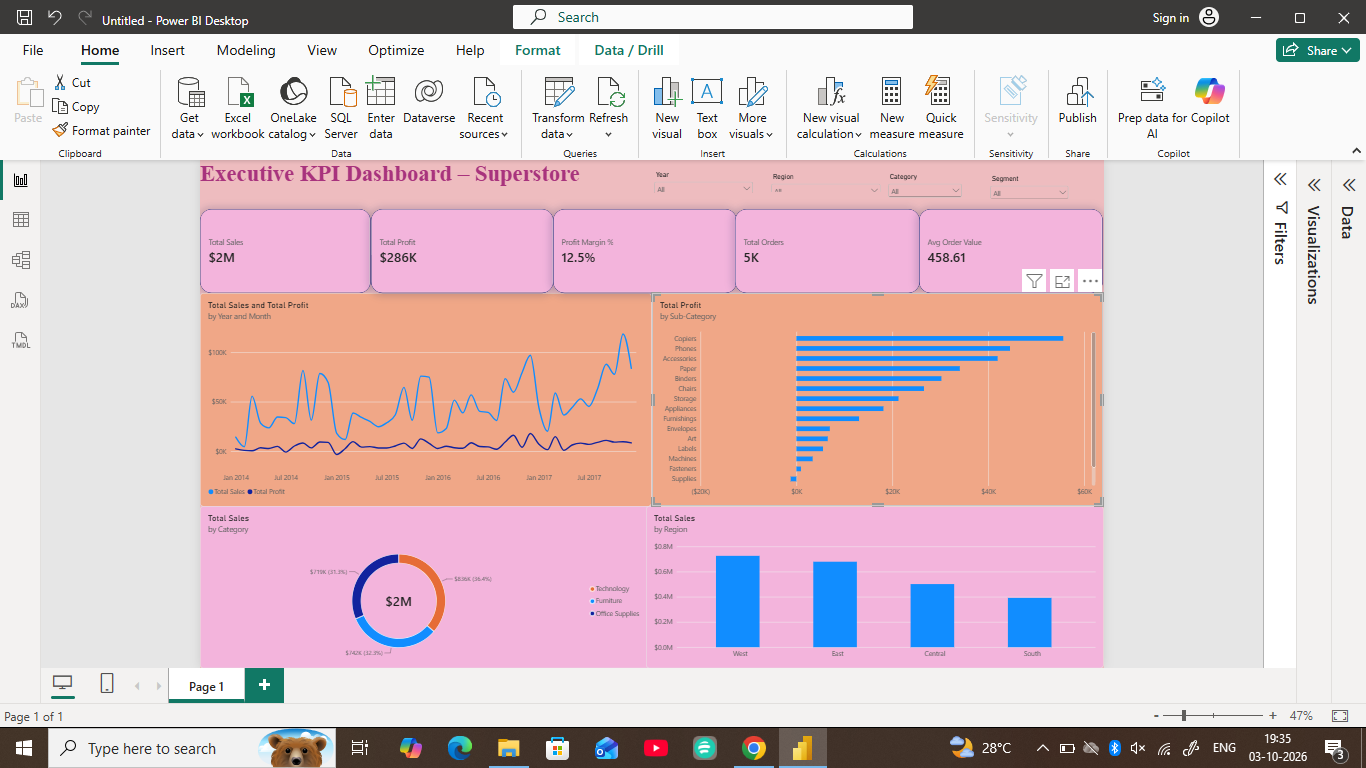

Layout of this report page (visuals, bound fields, positions):
{"tool":"powerbi","page":{"name":"Page 1","canvas":[1920,1080],"ordinal":0},"visuals":[{"type":"cardVisual","fields":{"Data":["superstore.Total Sales"]},"box":[0,103.3,362.8,178.9],"z":0},{"type":"lineChart","fields":{"Category":["superstore.Order Date.Variation.Date Hierarchy.Year","superstore.Order Date.Variation.Date Hierarchy.Month"],"Y":["superstore.Total Sales","superstore.Total Profit"]},"box":[0,282.2,960,453.5],"z":5000},{"type":"clusteredBarChart","fields":{"Category":["superstore.Sub-Category"],"Y":["superstore.Total Profit"]},"box":[960,282.2,960,453.5],"z":6000},{"type":"donutChart","fields":{"Category":["superstore.Category"],"Y":["superstore.Total Sales"]},"box":[0,735.7,960,345.2],"z":7000},{"type":"clusteredColumnChart","fields":{"Category":["superstore.Region"],"Y":["superstore.Total Sales"]},"box":[947.4,735.7,972.6,345.2],"z":8000},{"type":"slicer","fields":{"Values":["superstore.Year"]},"box":[960,22.7,219.2,45.4],"z":9000},{"type":"slicer","fields":{"Values":["superstore.Region"]},"box":[1209.4,27.7,241.9,40.3],"z":10001},{"type":"slicer","fields":{"Values":["superstore.Category"]},"box":[1458.9,27.7,166.3,58],"z":10002},{"type":"slicer","fields":{"Values":["superstore.Segment"]},"box":[1675.6,32.8,176.4,50.4],"z":10003},{"type":"textbox","box":[0,0,876.9,85.7],"z":10004},{"type":"cardVisual","fields":{"Data":["superstore.Total Profit"]},"box":[362.8,103.3,388,178.9],"z":10005},{"type":"cardVisual","fields":{"Data":["superstore.Profit Margin %"]},"box":[750.9,103.3,390.6,178.9],"z":10006},{"type":"cardVisual","fields":{"Data":["superstore.Total Orders"]},"box":[1136.4,103.3,393.1,178.9],"z":10007},{"type":"cardVisual","fields":{"Data":["superstore.Avg Order Value"]},"box":[1529.4,103.3,390.6,178.9],"z":10008}]}

Visuals, with their boxes on the page's 1920x1080 design canvas (x1, y1, x2, y2). These are canvas units, not pixel positions in the 1366x768 screenshot, which may show the page scaled, cropped or inside an application window:
cardVisual - superstore.Total Sales: [left=0, top=103, right=363, bottom=282]
lineChart - superstore.Order Date.Variation.Date Hierarchy.Year x superstore.Order Date.Variation.Date Hierarchy.Month: [left=0, top=282, right=960, bottom=736]
clusteredBarChart - superstore.Sub-Category x superstore.Total Profit: [left=960, top=282, right=1920, bottom=736]
donutChart - superstore.Category x superstore.Total Sales: [left=0, top=736, right=960, bottom=1081]
clusteredColumnChart - superstore.Region x superstore.Total Sales: [left=947, top=736, right=1920, bottom=1081]
slicer - superstore.Year: [left=960, top=23, right=1179, bottom=68]
slicer - superstore.Region: [left=1209, top=28, right=1451, bottom=68]
slicer - superstore.Category: [left=1459, top=28, right=1625, bottom=86]
slicer - superstore.Segment: [left=1676, top=33, right=1852, bottom=83]
textbox: [left=0, top=0, right=877, bottom=86]
cardVisual - superstore.Total Profit: [left=363, top=103, right=751, bottom=282]
cardVisual - superstore.Profit Margin %: [left=751, top=103, right=1142, bottom=282]
cardVisual - superstore.Total Orders: [left=1136, top=103, right=1530, bottom=282]
cardVisual - superstore.Avg Order Value: [left=1529, top=103, right=1920, bottom=282]
